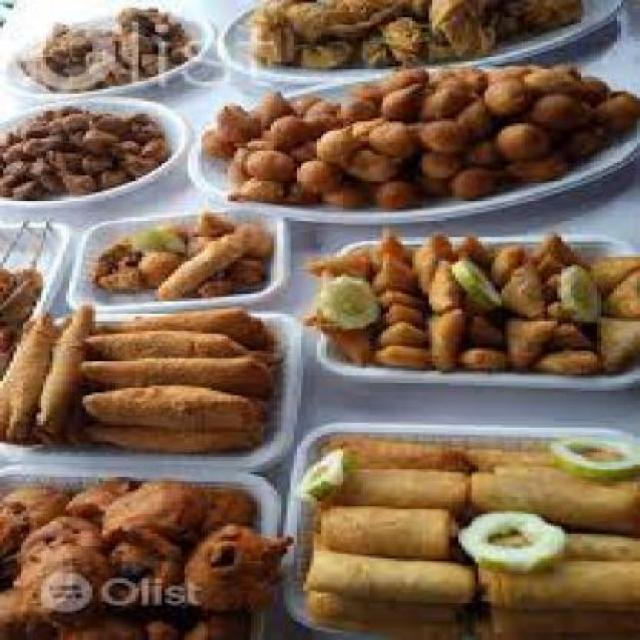samosa: (314, 237, 637, 371)
spring rolls: (317, 430, 637, 625)
